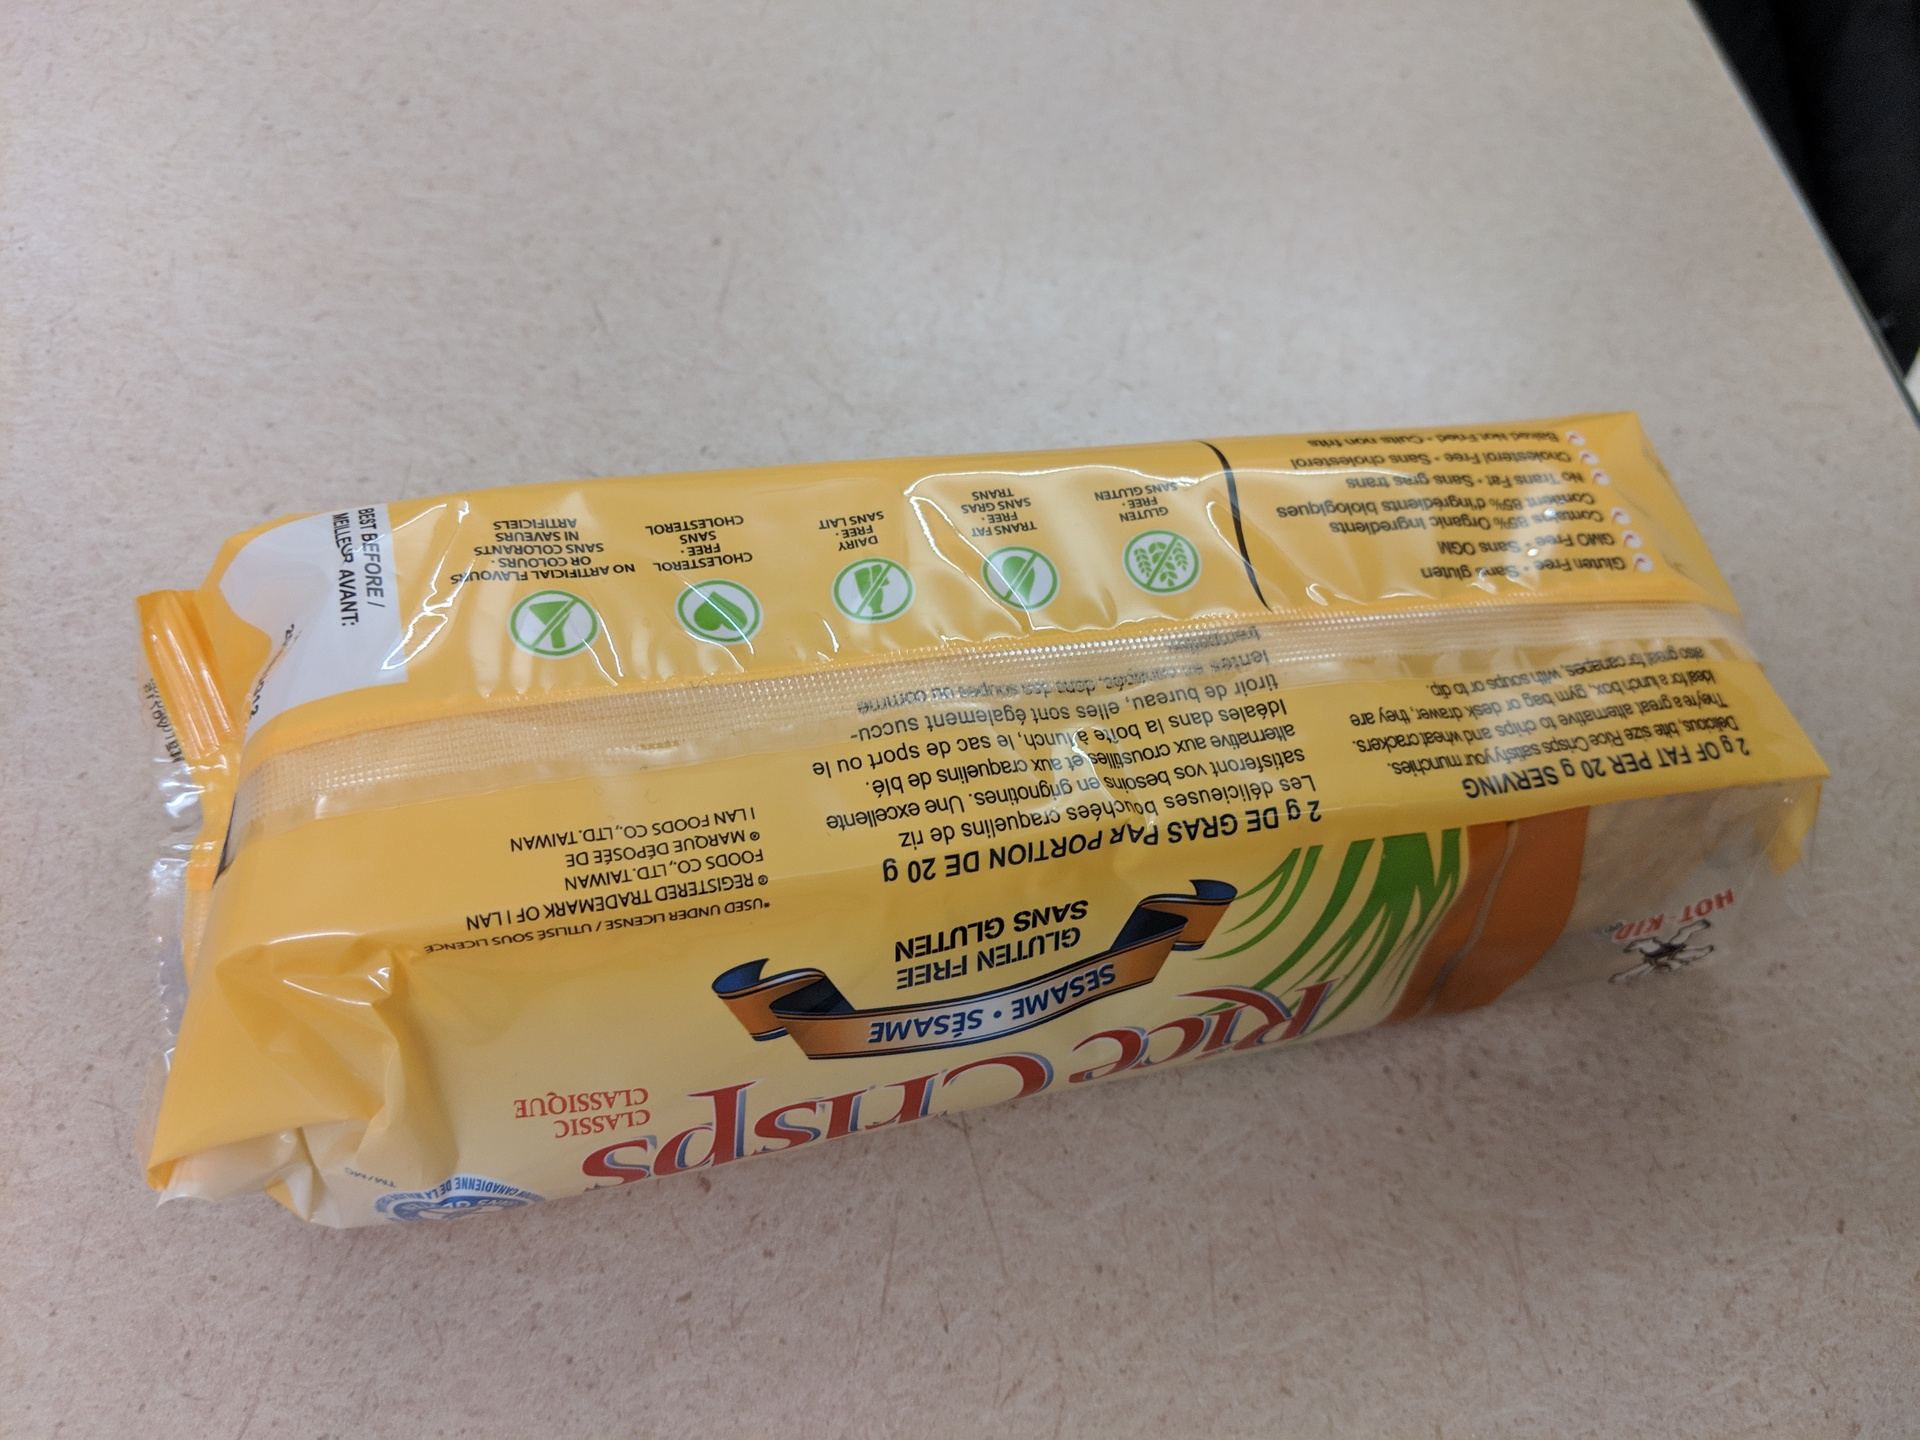hot_kid_rice_crisps_sesame: (129, 408, 1831, 1236)
